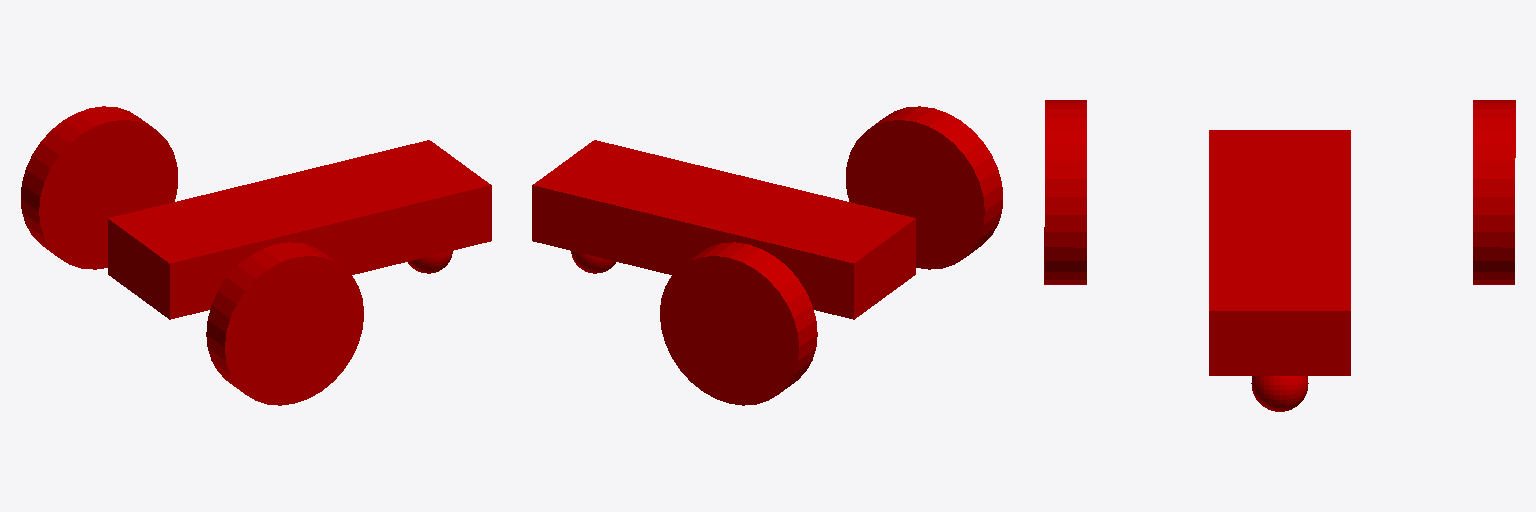
URDF robot description (three_wheels):
<?xml version="1.0"?>
<robot name ="three_wheels">

<material name="blue">
    <color rgba="0 0 0.8 1"/>
</material>
<material name="black">
    <color rgba="0 0 0 1"/>
</material>
<material name="white">
    <color rgba="1 1 1 1"/>
</material>
<material name="red">
    <color rgba="0.8 0 0 1"/>
</material>

<link name = "chassis">
    <visual>
        <geometry>
            <box size="3 1 0.5"/>
        </geometry>
        <material name="red"/>
    </visual>
    <collision>
        <geometry>
            <box size="3 1 0.5"/>
        </geometry>
    </collision>
    <inertial>
        <mass value="1"/>
        <inertia ixx="1.0" ixy="0.0" ixz="0.0" iyy="1.0" iyz="0.0" izz="1.0"/>
    </inertial>
</link>

<link name = "wheel_front">
    <visual>
        <geometry>
            <sphere radius = "0.2"/>
        </geometry>
        <material name="red"/>
    </visual>
    <collision>
        <geometry>
            <cylinder length = "0.3" radius = "0.2"/>
        </geometry>
    </collision>
    <inertial>
        <mass value="1"/>
        <inertia ixx="1.0" ixy="0.0" ixz="0.0" iyy="1.0" iyz="0.0" izz="1.0"/>
    </inertial>
</link>

<link name = "wheel_rl">
    <visual>
        <geometry>
            <cylinder length = "0.3" radius = "0.65"/>
        </geometry>
        <material name="red"/>
    </visual>
    <collision>
        <geometry>
            <cylinder length = "0.3" radius = "0.65"/>
        </geometry>
    </collision>
    <inertial>
        <mass value="1"/>
        <inertia ixx="1.0" ixy="0.0" ixz="0.0" iyy="1.0" iyz="0.0" izz="1.0"/>
    </inertial>
</link>

<link name = "wheel_rr">
    <visual>
        <geometry>
            <cylinder length = "0.3" radius = "0.65"/>
        </geometry>
        <material name="red"/>
    </visual>
    <collision>
        <geometry>
            <cylinder length = "0.3" radius = "0.65"/>
        </geometry>
    </collision>
    <inertial>
        <mass value="1"/>
        <inertia ixx="1.0" ixy="0.0" ixz="0.0" iyy="1.0" iyz="0.0" izz="1.0"/>
    </inertial>
</link>

<joint name = "chassis_wheel_front" type = "fixed">
    <parent link = "chassis"/>
    <child link = "wheel_front"/>
    <origin xyz = "1.2 0 -0.45" rpy = "1.57 0 0" />
    <axis xyz = "0 0 1" />
</joint>

<joint name = "chassis_wheel_rl" type = "continuous">
    <parent link = "chassis"/>
    <child link = "wheel_rl"/>
    <origin xyz = "-1 -1.5 0" rpy = "1.57 0 0" />
    <axis xyz = "0 0 1" />
</joint>

<joint name = "chassis_wheel_rr" type = "continuous">
    <parent link = "chassis"/>
    <child link = "wheel_rr"/>
    <origin xyz = "-1 1.5 0" rpy = "1.57 0 0" />
    <axis xyz = "0 0 1" />
</joint>

<motor name = "motor_rr">
    <joint name = "chassis_wheel_rr"/>
    <!-- location is with respect to the joint's parent frame -->
    <mass value = "1" xyz = "-1 0.5 0"/>
</motor>

<motor name = "motor_rl">
    <joint name = "chassis_wheel_rl"/>
    <!-- location is with respect to the joint's parent frame -->
    <mass value = "1" xyz = "-1 -0.5 0"/>
</motor>

<extra_mass name = "main_board">
    <link name = "chassis"/>
    <!-- location is in the link's ref frame -->
    <mass value = "1" xyz = "0 0 0"/>
</extra_mass>
</robot>

--- What the picture shows (computed from the rendered views, not written in the file) ---
3 views of the same robot in one strip: view 1: azimuth 30°, elevation 25°; view 2: azimuth 150°, elevation 25°; view 3: azimuth 270°, elevation 25° (orthographic).
Robot: three_wheels — 4 links, 3 joints (2 continuous, 1 fixed); root link chassis; default pose: every joint at zero.
Visible links, largest first — view 1: chassis, wheel_rl, wheel_rr, wheel_front; view 2: chassis, wheel_rr, wheel_rl, wheel_front; view 3: chassis, wheel_rl, wheel_rr, wheel_front.
Boxes of the visible links, <box> form: chassis: <box>108,140,491,319</box>; wheel_rl: <box>206,242,363,405</box>; wheel_rr: <box>21,106,177,269</box>; wheel_front: <box>408,251,452,273</box>; chassis: <box>532,140,915,319</box>; wheel_rr: <box>660,242,817,405</box>; wheel_rl: <box>846,106,1002,269</box>; wheel_front: <box>571,251,615,273</box>; chassis: <box>1209,130,1350,375</box>; wheel_rl: <box>1044,100,1086,284</box>; wheel_rr: <box>1473,100,1515,284</box>; wheel_front: <box>1251,376,1308,411</box>.
Bounding box of the posed robot: 3.15 × 3.3 × 1.3 m (x, y, z).
Geometry: primitives only (box / cylinder / sphere), no mesh files.